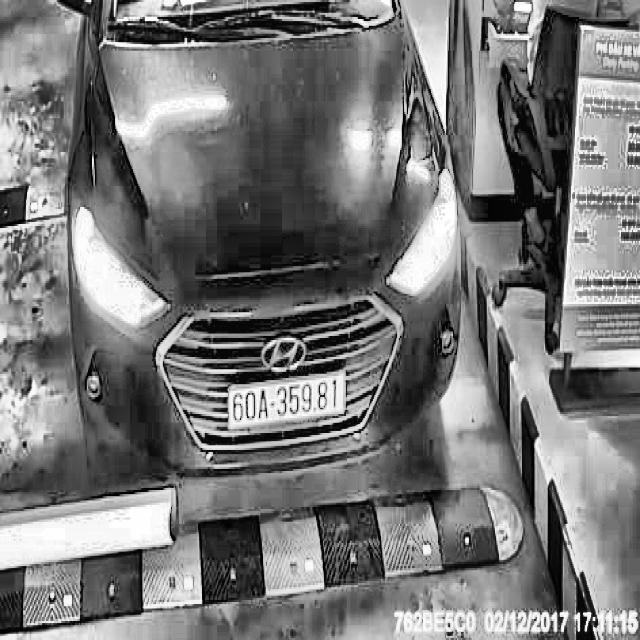plate: (224, 365, 350, 438)
